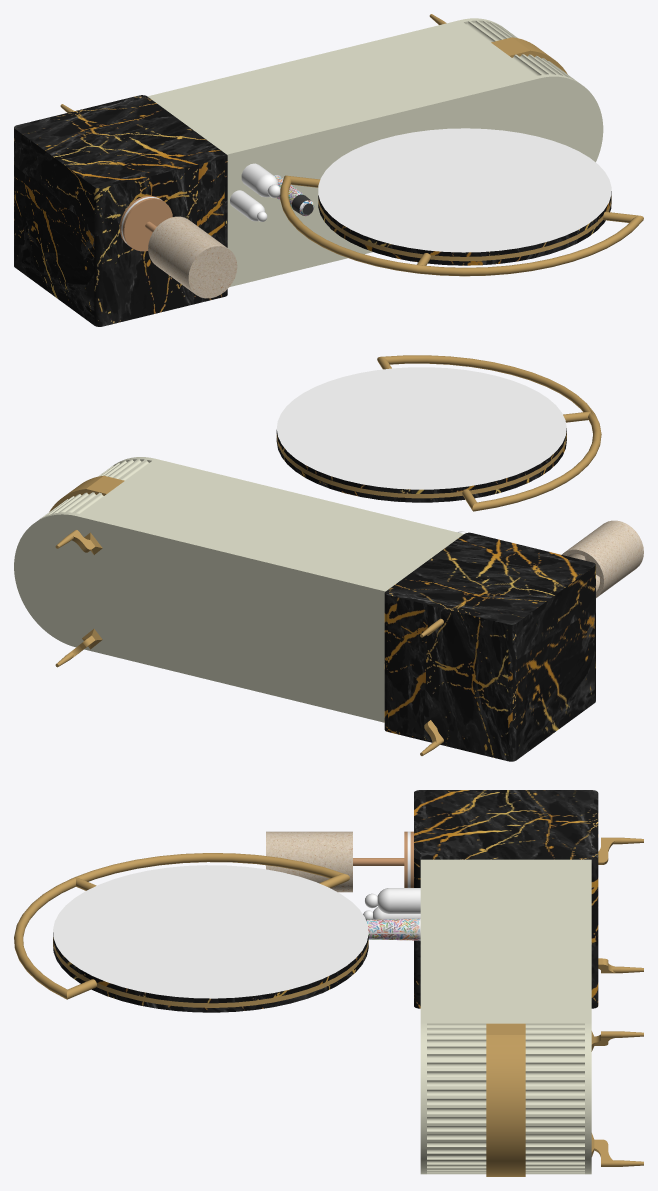
The model's file is Dressing Table.fbx.
3 views of the same model, one above another, from view 1: azimuth 30°, elevation 25°; view 2: azimuth 150°, elevation 25°; view 3: azimuth 270°, elevation 25° (orthographic). The views are drawn at different scales.
Visible parts, largest first — view 1: Union, Group5, Group11, Group6, Group10, Group13, Group3, Group12; view 2: Union, Group5, Group6, Group11; view 3: Union, Group5, Group6, Group11, Group13, Group12, Group10, Component_1_1.
Part boxes in pixels (x1,y1,x2,y2): Union: (14, 18, 603, 326); Group5: (318, 128, 611, 265); Group11: (148, 216, 237, 298); Group6: (280, 175, 643, 276); Group10: (122, 198, 172, 251); Group13: (241, 163, 280, 197); Group3: (230, 190, 267, 221); Group12: (274, 175, 314, 216); Union: (14, 457, 595, 761); Group5: (276, 367, 566, 502); Group6: (377, 355, 601, 511); Group11: (562, 520, 643, 597); Union: (414, 790, 598, 1176); Group5: (53, 865, 368, 1012); Group6: (14, 853, 349, 999); Group11: (266, 831, 352, 892); Group13: (365, 888, 420, 913); Group12: (366, 918, 420, 940); Group10: (353, 831, 407, 887); Component_1_1: (591, 1133, 643, 1166).
Bounding box in the file's own units: 123 × 33.25 × 122.
